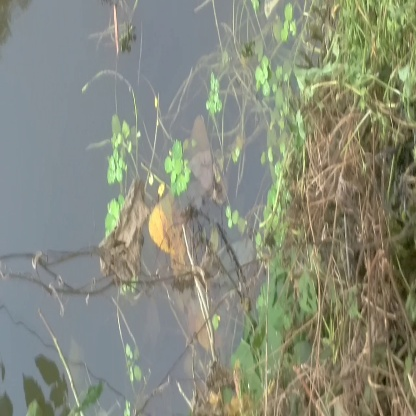leaf: (96, 116, 146, 183)
